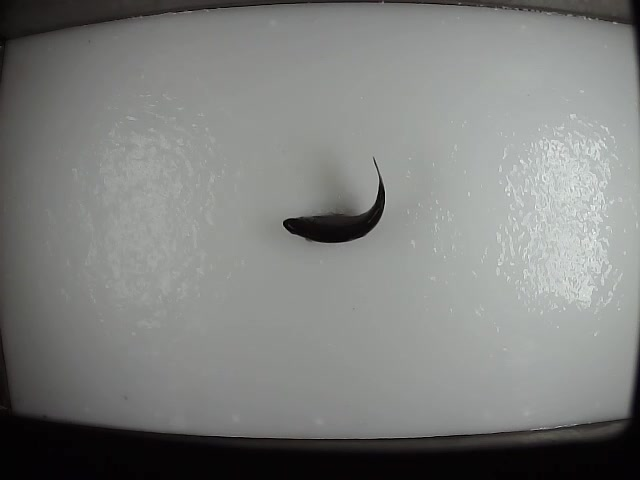fish: (281, 150, 388, 243)
